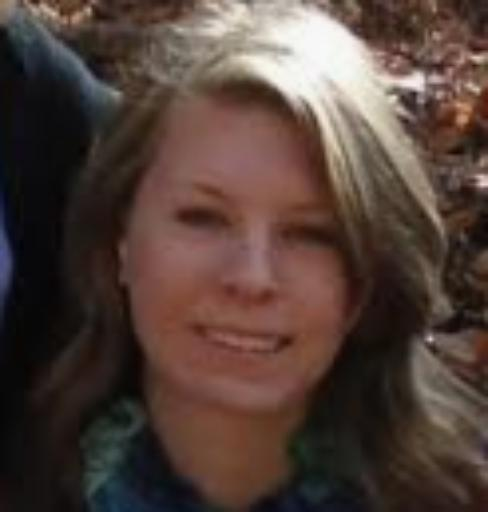left_eye: (284, 223, 341, 252)
left_lip_corner: (283, 329, 307, 353)
right_eye: (174, 204, 230, 232)
right_lip_corner: (186, 316, 210, 338)
